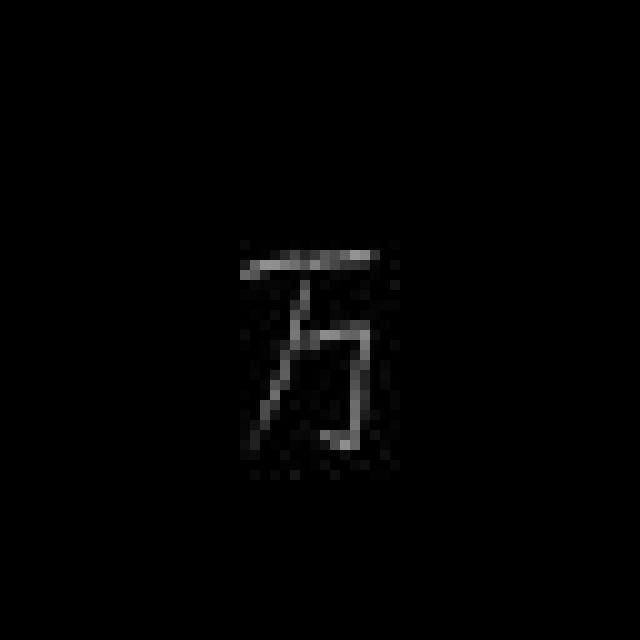10000 -a ten thousand-: (230, 235, 386, 470)
